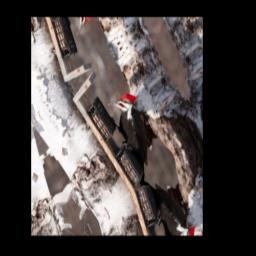Woodpecker: (102, 82, 164, 178)
